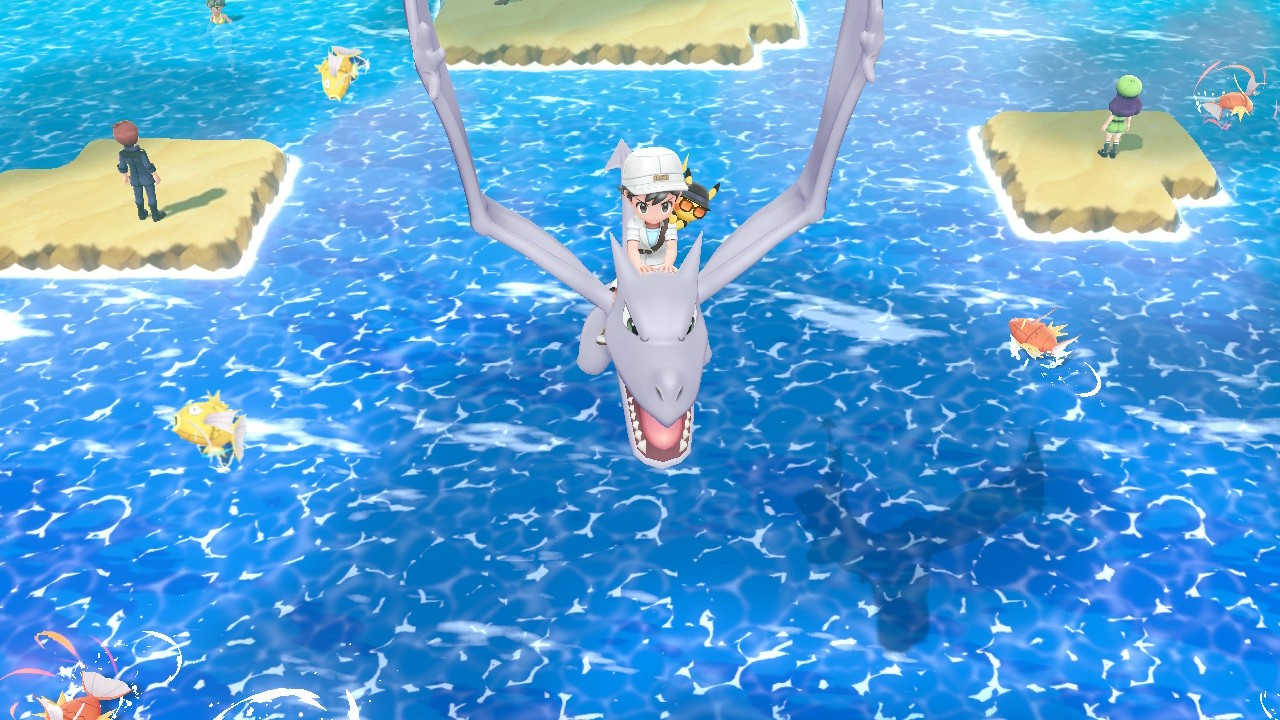Golden: (171, 392, 255, 467), (314, 42, 370, 104)
Red: (35, 662, 138, 720), (1005, 310, 1073, 366), (1197, 86, 1258, 125)
